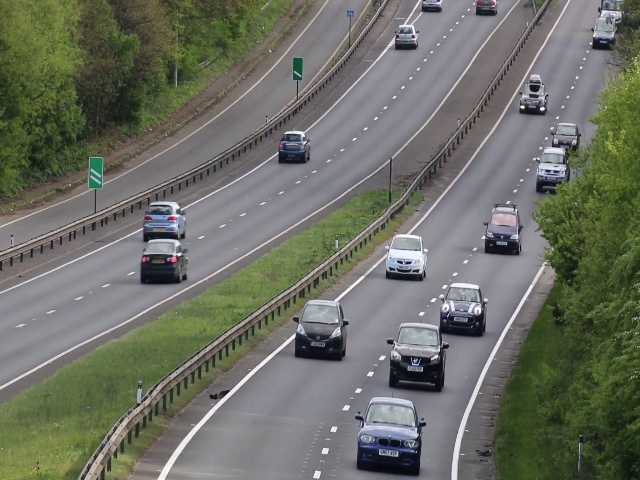car: (359, 399, 422, 471), (388, 320, 448, 388), (295, 300, 348, 361), (138, 237, 188, 285), (443, 283, 486, 334), (385, 232, 423, 281), (141, 199, 186, 239), (486, 207, 523, 253), (539, 148, 568, 190), (276, 130, 312, 163), (520, 78, 547, 117), (592, 17, 613, 50), (393, 22, 418, 48), (554, 124, 577, 152)
